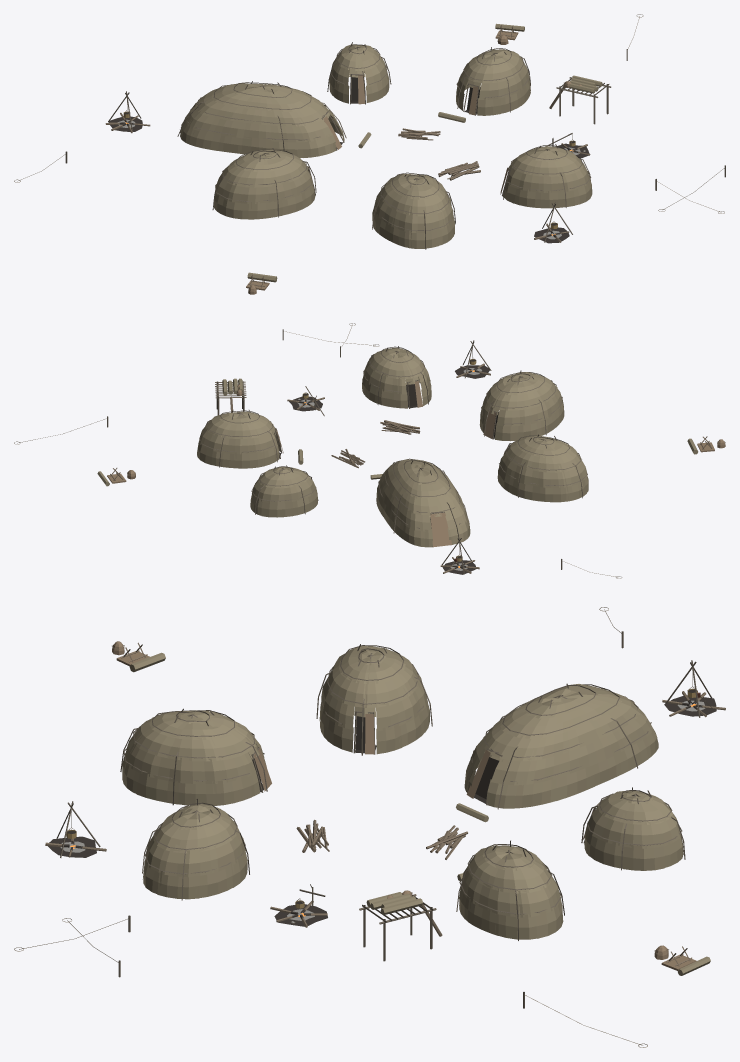
File: potawatomi_camp_1812_head_west__camp_1812.glb
3 renders of one model, top to bottom at view 1: azimuth 30°, elevation 25°; view 2: azimuth 150°, elevation 25°; view 3: azimuth 270°, elevation 25°, orthographic. The views are drawn at different scales.
Parts seen in each view (by area): view 1: potawatomi_camp_1812_head_west__camp_1812; view 2: potawatomi_camp_1812_head_west__camp_1812; view 3: potawatomi_camp_1812_head_west__camp_1812.
Part boxes in pixels (box(x1,y1,x2,y2)): potawatomi_camp_1812_head_west__camp_1812: box(14, 14, 725, 294); potawatomi_camp_1812_head_west__camp_1812: box(14, 323, 725, 578); potawatomi_camp_1812_head_west__camp_1812: box(14, 607, 725, 1047).
Bounding box in the file's own units: 37.96 × 3.08 × 25.91.
